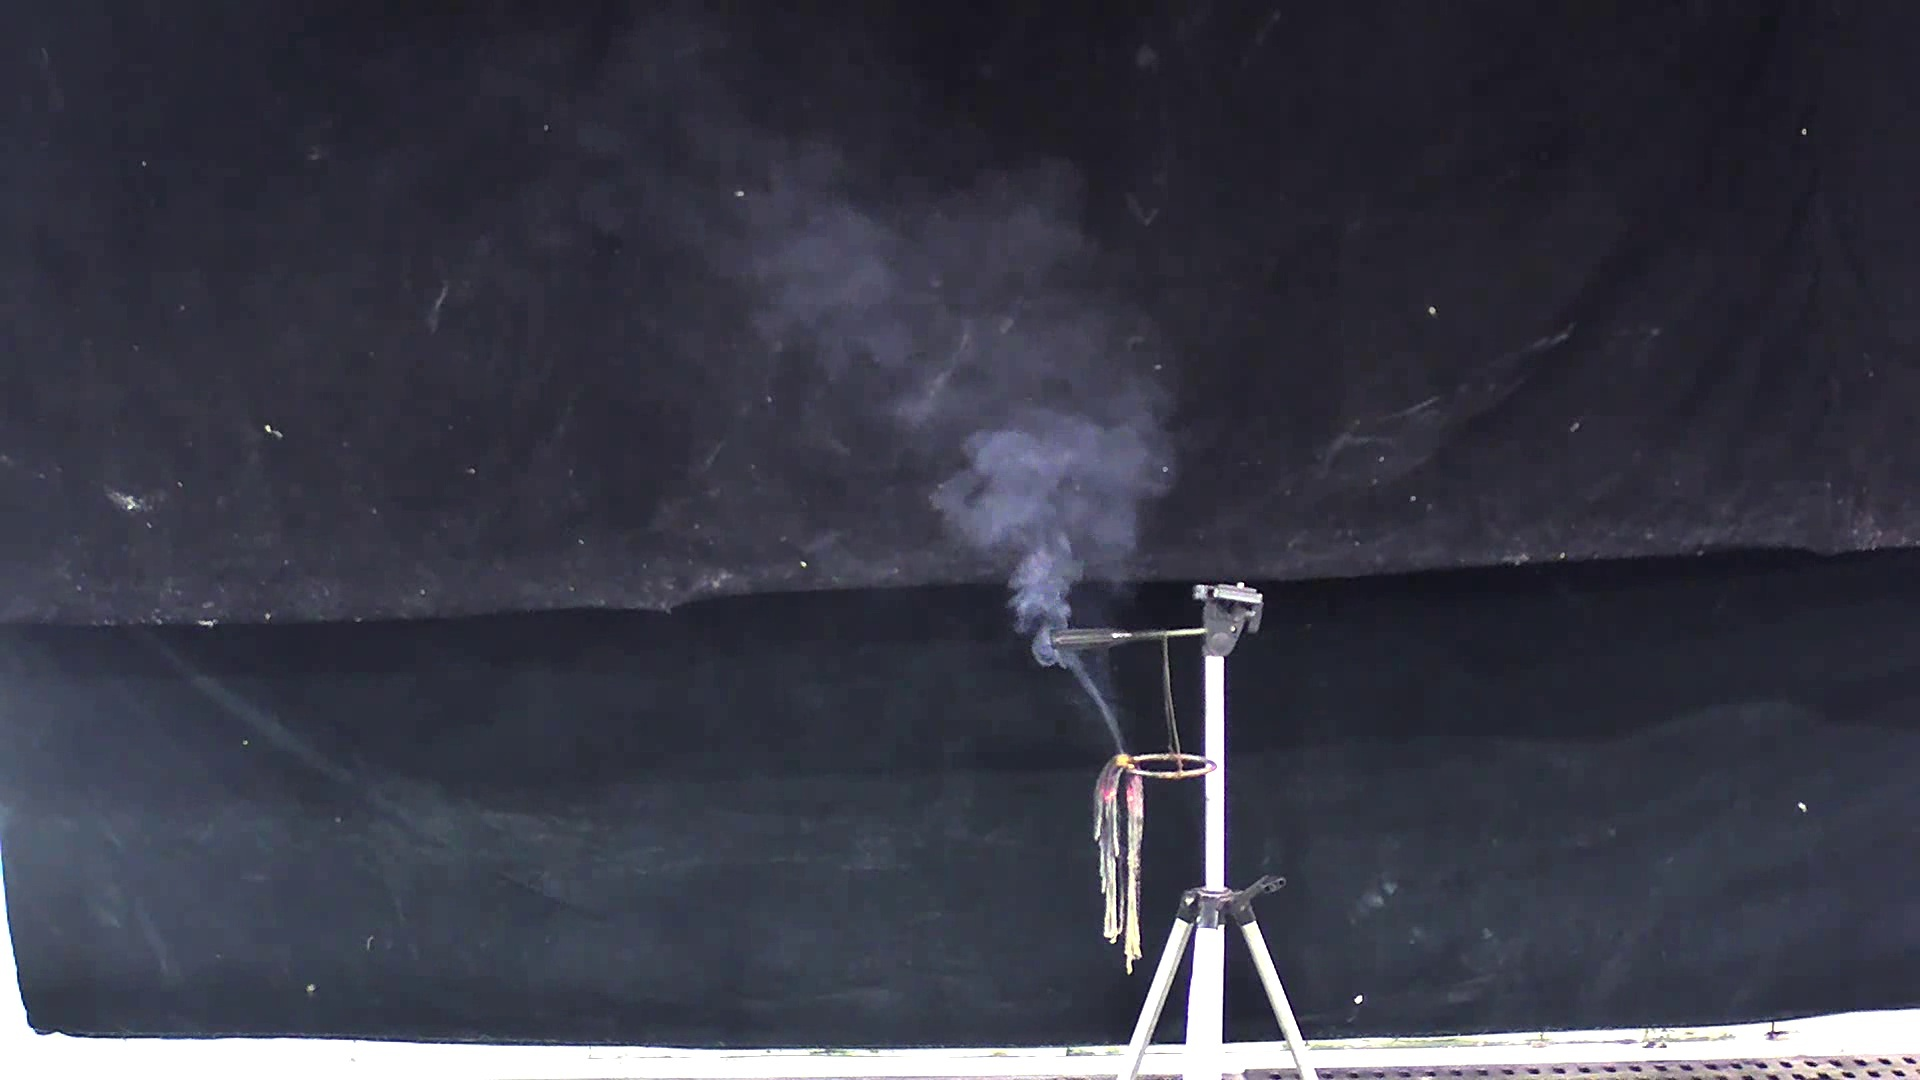smoke: (725, 111, 1197, 752)
